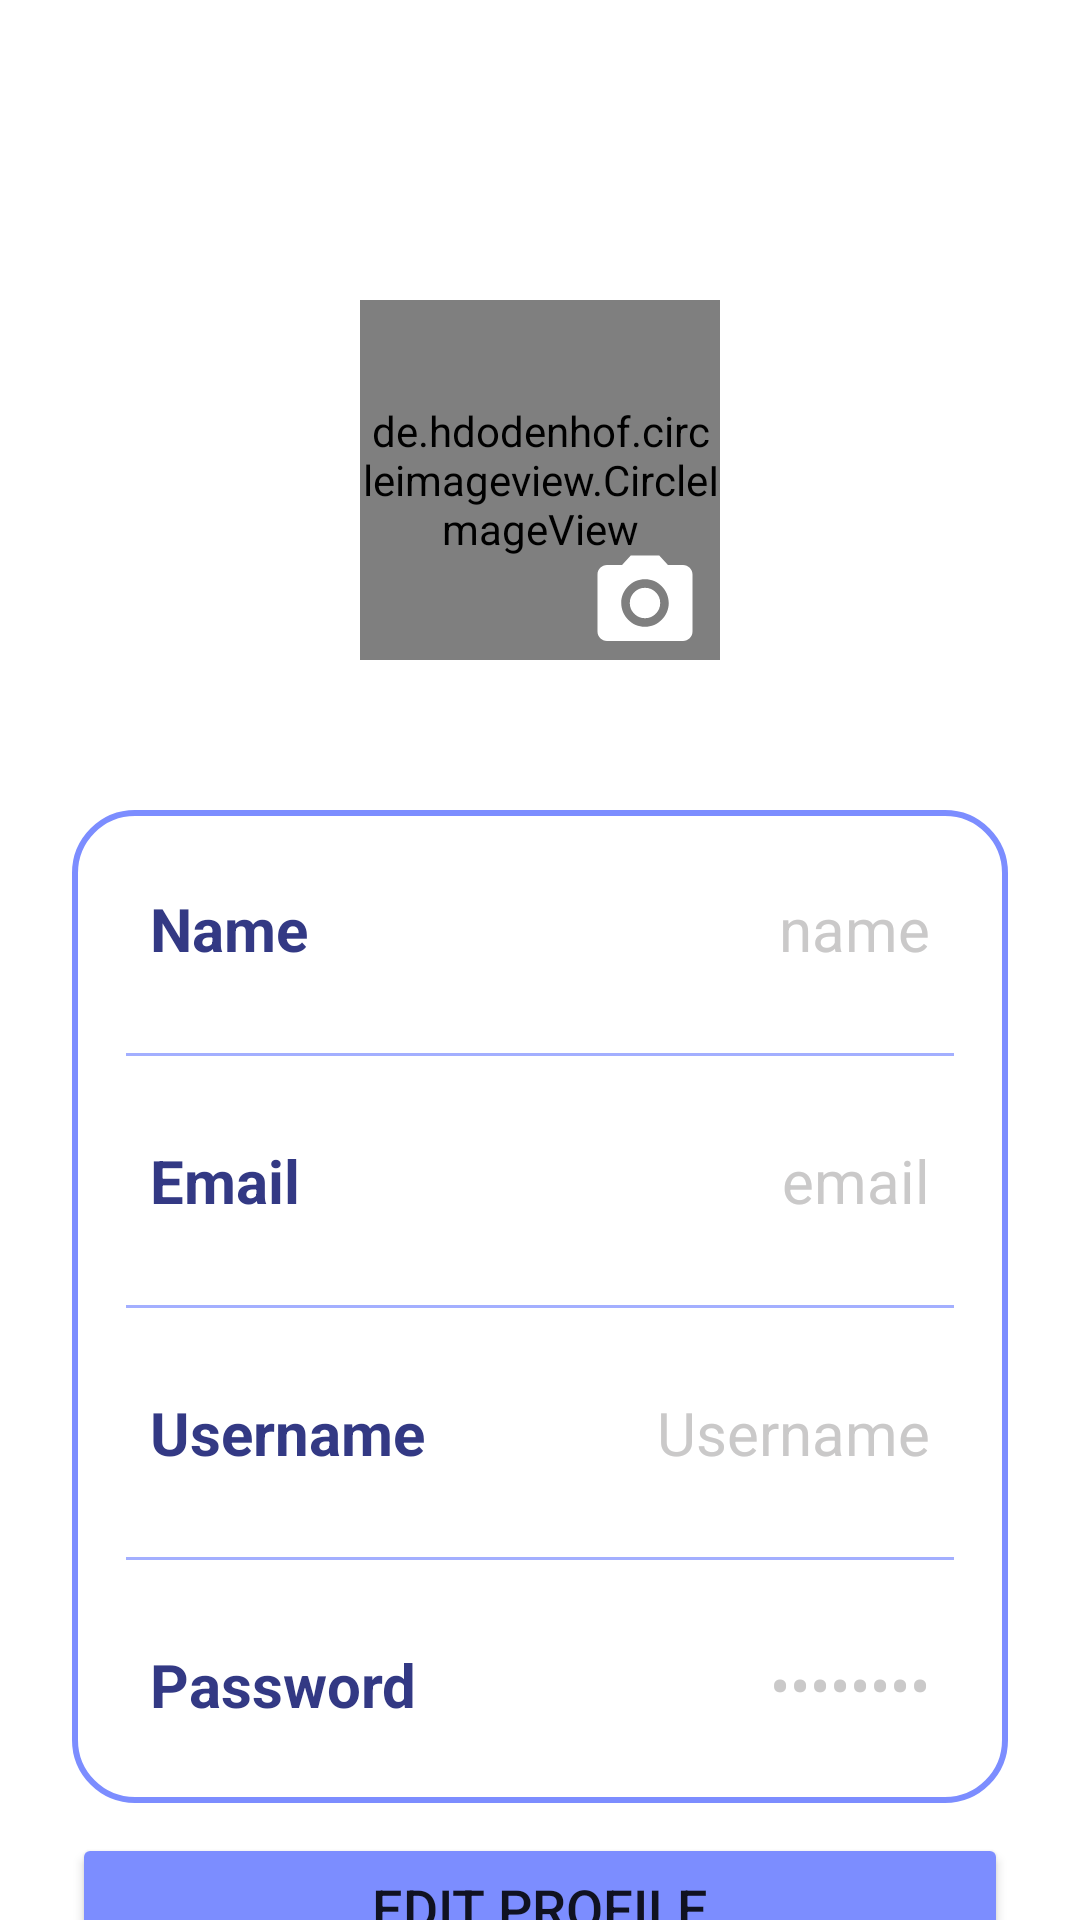

Where to tap for icons on this 1080w x 1920h app screen, as (x,y):
camera: (635,578)
